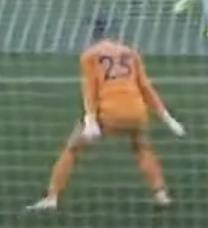goalkeeper: (10, 7, 208, 219)
